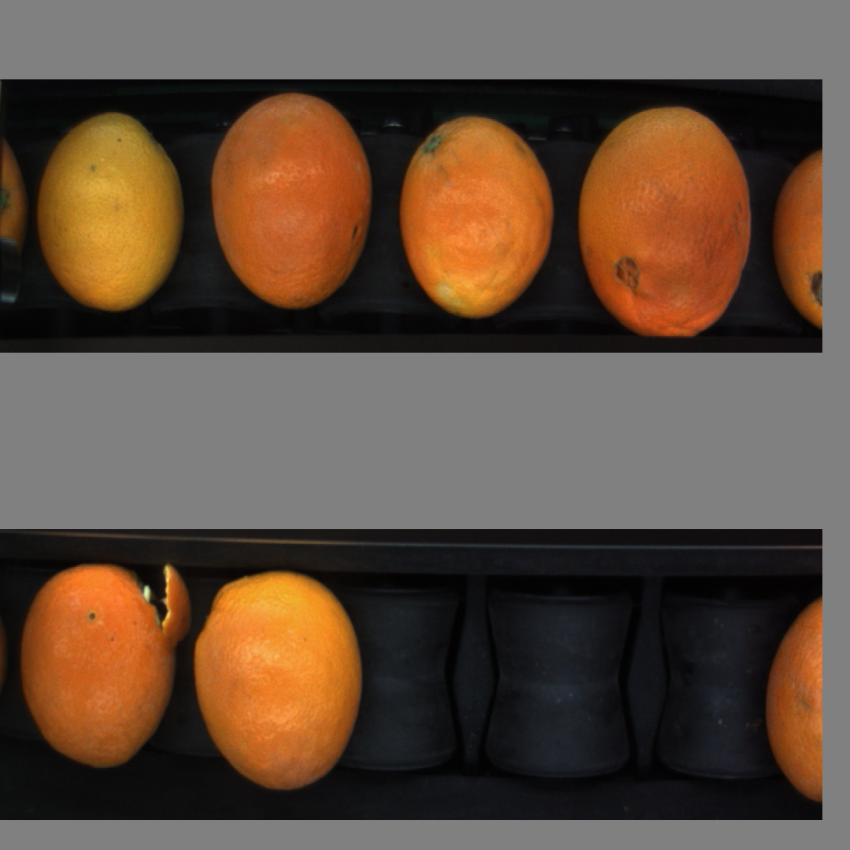Buen estado: (194, 567, 366, 792), (209, 90, 375, 308), (398, 110, 556, 320), (34, 92, 184, 312), (763, 593, 823, 804)
Mal estado: (576, 106, 753, 336), (16, 560, 188, 773), (770, 135, 821, 324)
